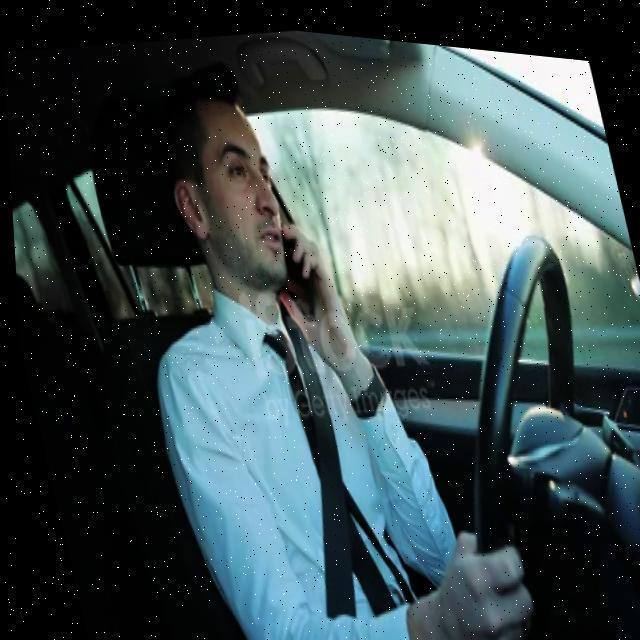PhoneCall: (265, 207, 320, 319)
